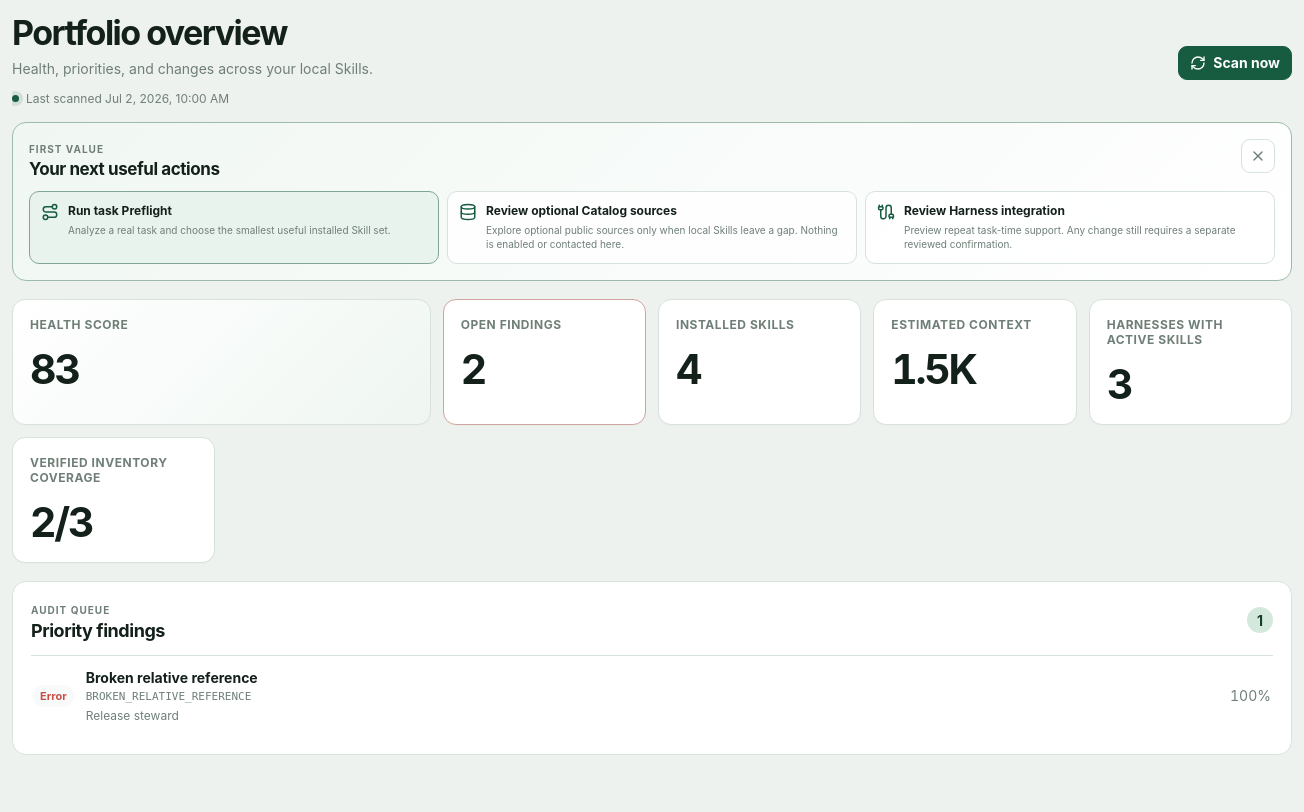
Test: guides first value with explicit links and persists dismissal locally
The width and height of the screenshot is (1304, 812).
Click the button named "Dismiss first-value guide": [1258, 156] box [1241,139,1275,173]
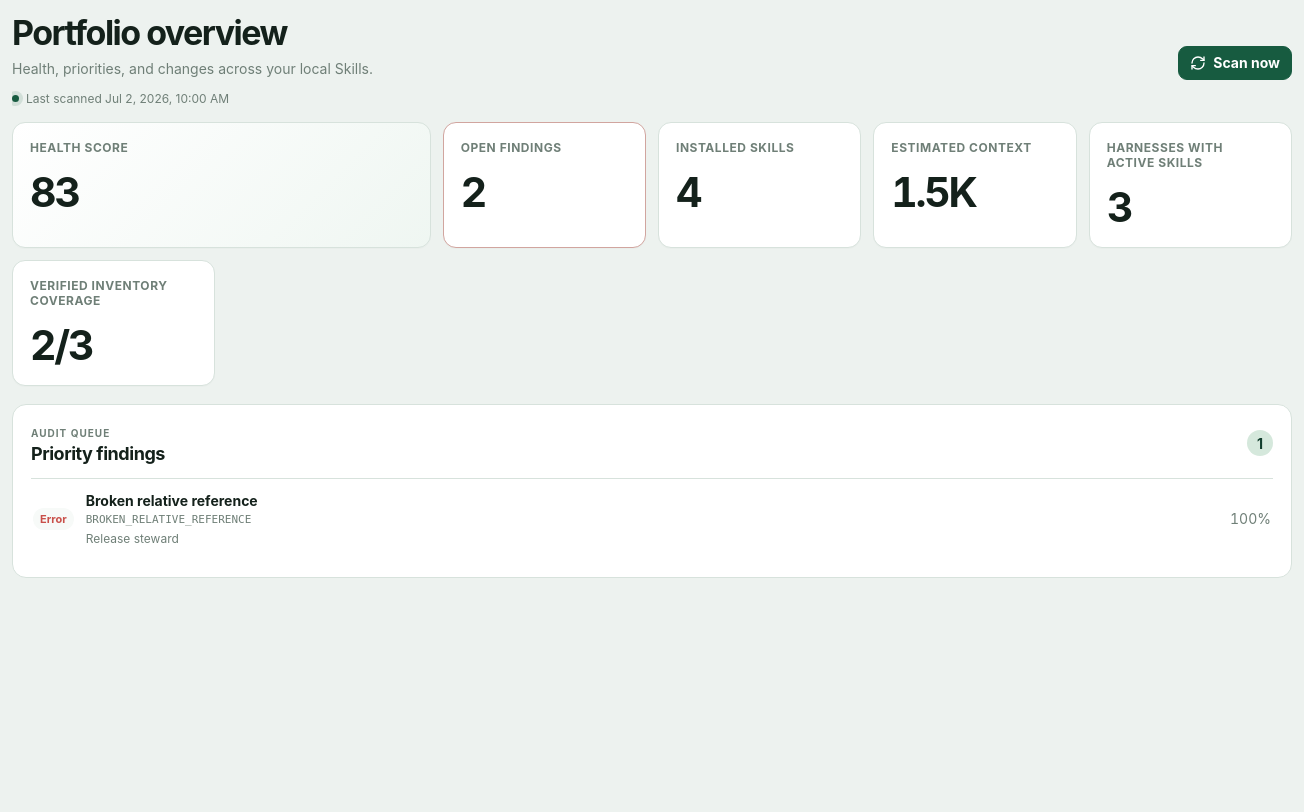
Expected: the heading "Your next useful actions" is gone
